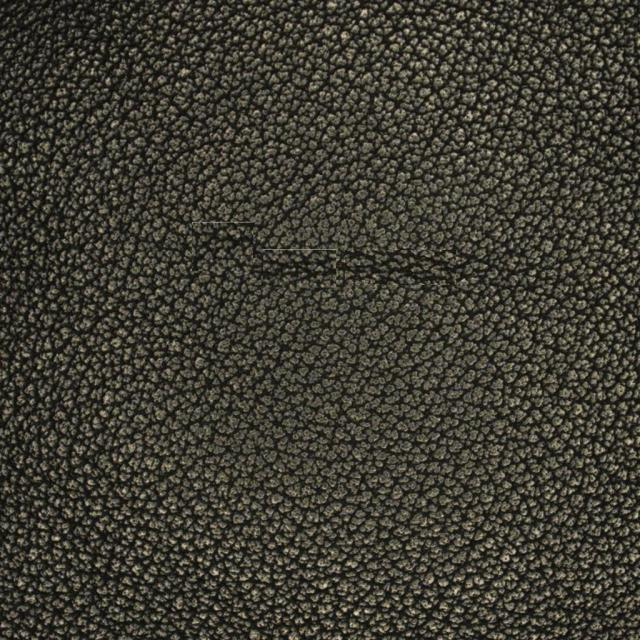Healed Injury: (167, 196, 360, 319), (388, 210, 590, 321)
